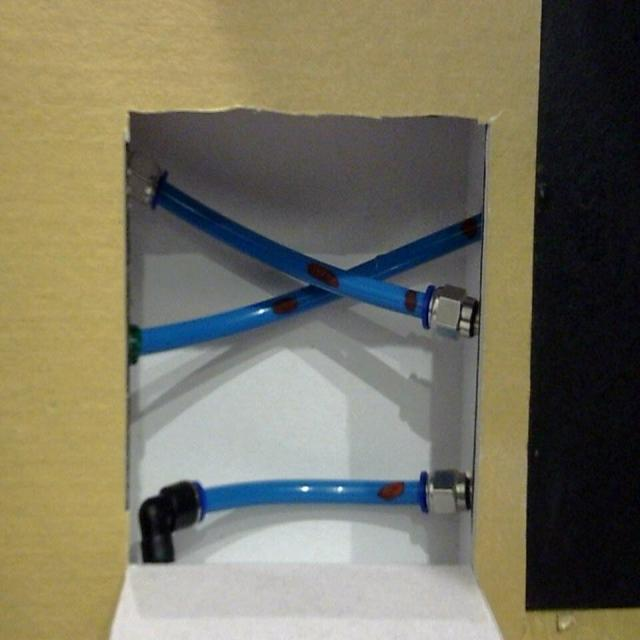hose_damage: (305, 261, 345, 288), (375, 478, 405, 502), (458, 217, 479, 242), (271, 297, 298, 316), (403, 285, 418, 318)
